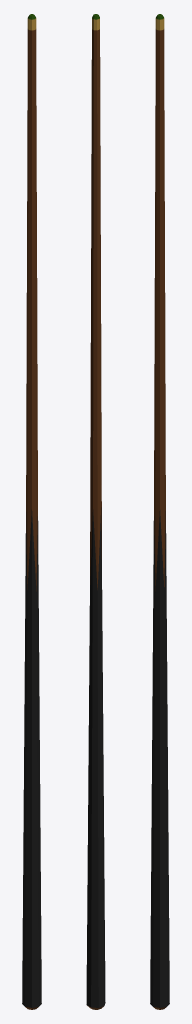
The model's file is PoolCue.fbx.
3 views of the same model, side by side, from view 1: azimuth 90°, elevation 25°; view 2: azimuth 150°, elevation 25°; view 3: azimuth 270°, elevation 25° (orthographic).
Visible parts, largest first — view 1: PoolCue; view 2: PoolCue; view 3: PoolCue.
Part boxes in pixels (box(x1,y1,x2,y2)): PoolCue: box(22, 14, 41, 1009); PoolCue: box(86, 14, 105, 1009); PoolCue: box(150, 14, 169, 1009).
Size of the model in its own units: 2.46 by 137 by 2.46.
